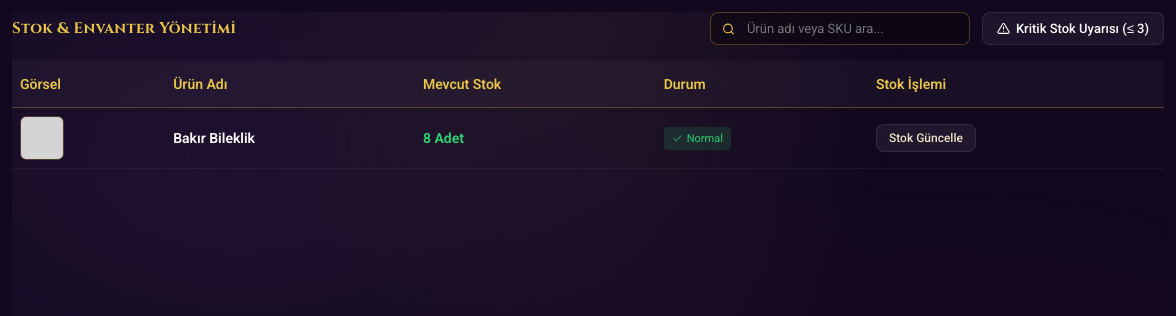
Test: Admin Role & Stock Persistence Suite (Section 14 Tests) › Test 6 — Stock API failure retains original stock and displays error
expect the link "Bakır Bileklik" is shown: met, box [173,127,255,150]
Click the button "Stok Güncelle" at (926, 138), box [876,124,976,152]
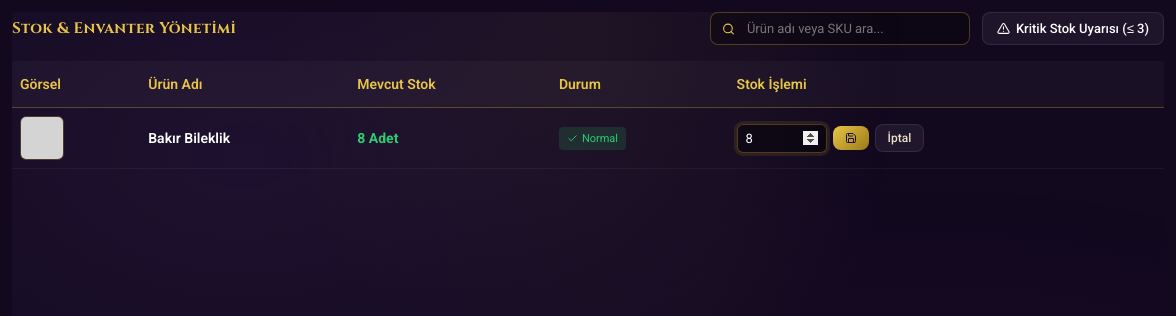
Replace the text in the number field showing "8" with "99" at (782, 138), box [737,124,827,153]
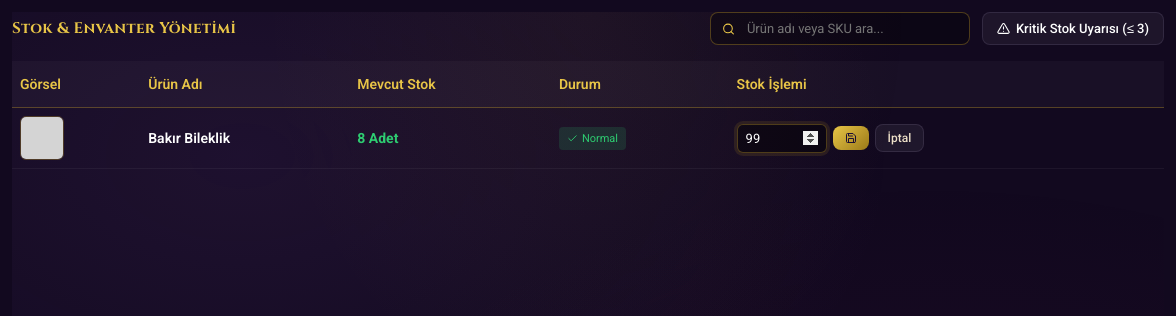
Click the button titled "Kaydet" at (851, 138), box [833,126,869,150]
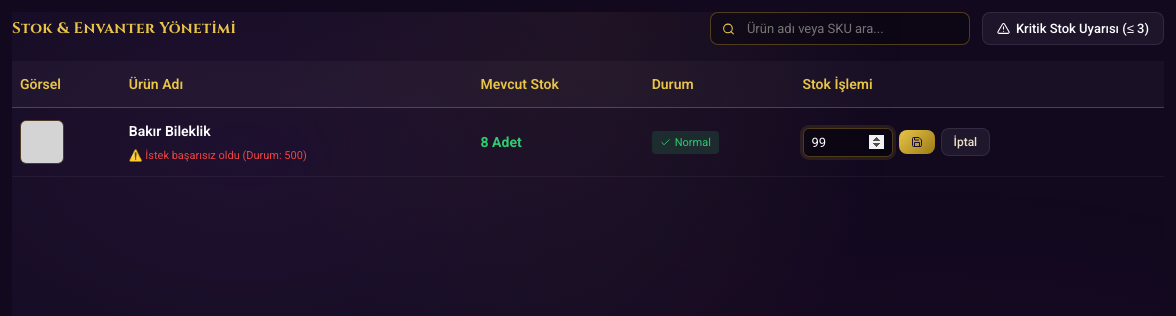
expect the text "8 Adet" is shown: met, box [473,108,644,177]
expect the text "⚠️ İstek başarısız oldu (Durum: 500)" is shown: met, box [129,149,307,162]
